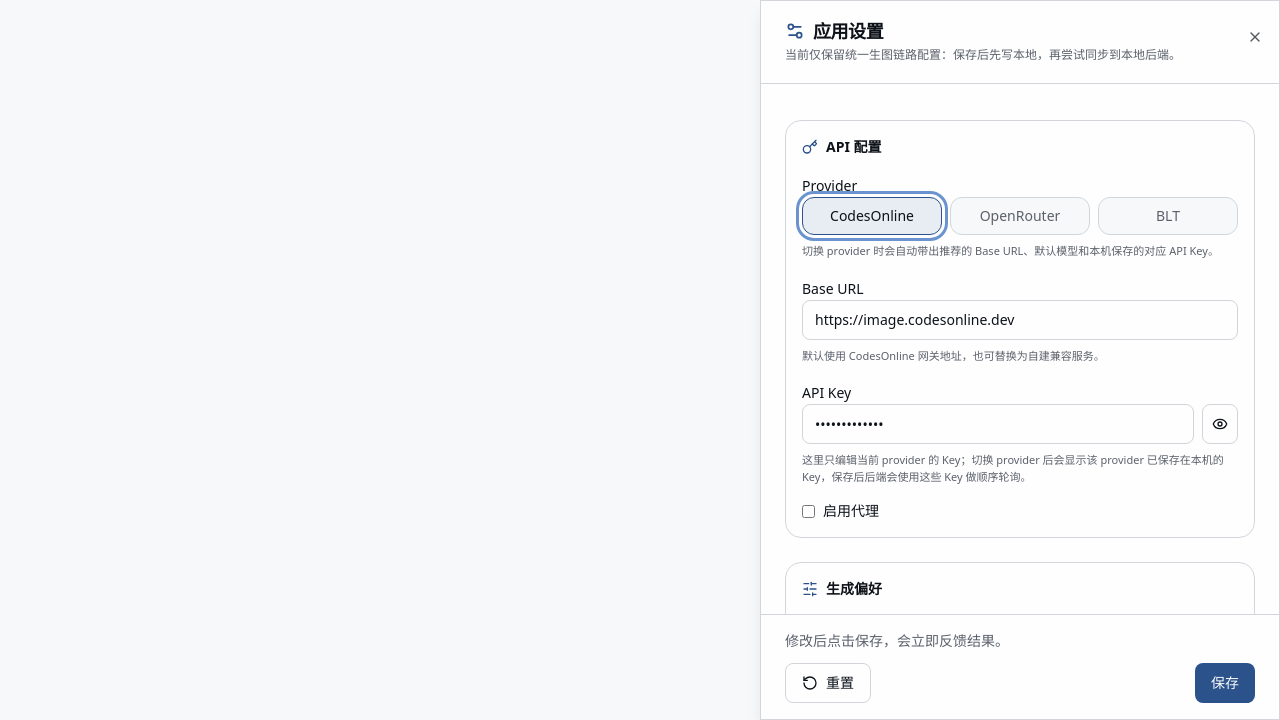
Test: settings drawer save chain regression › 后端返回业务错误时应保持失败态，不得降级成保存成功
Click the button "保存". click: (1225, 683)
box: [1195,663,1255,703]
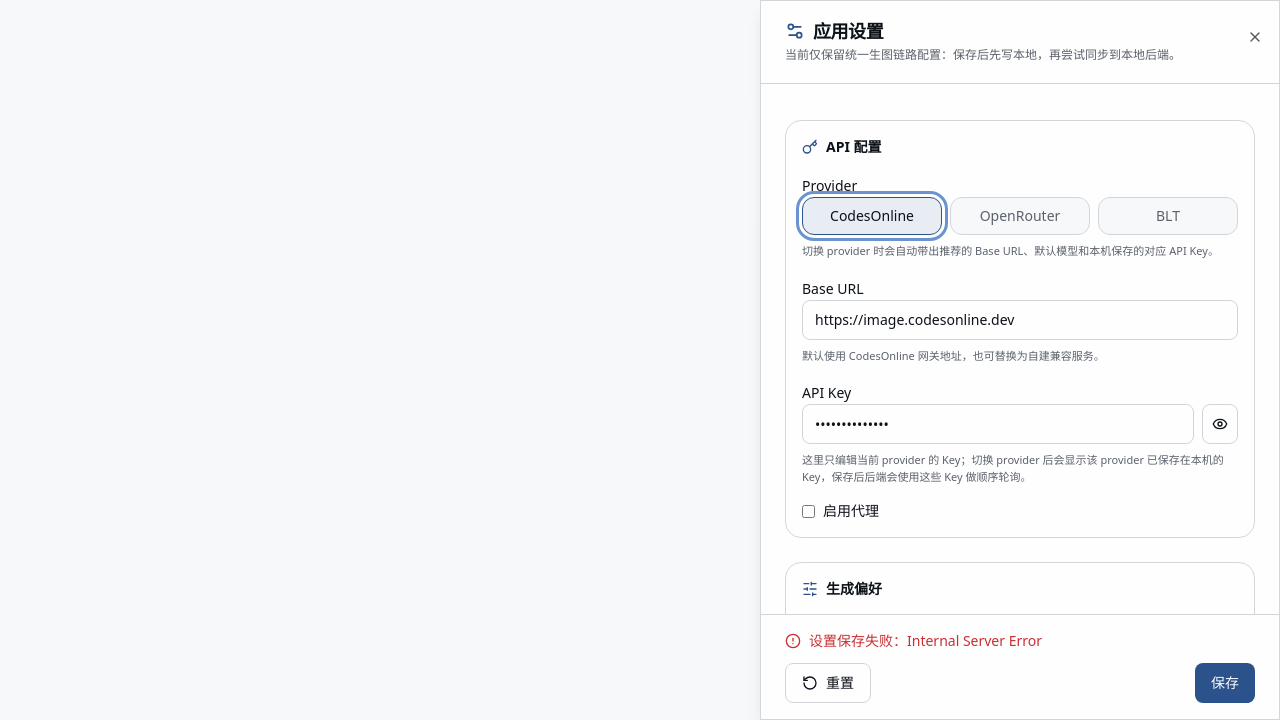
Now the text "设置保存失败：Internal Server Error" is shown, box [809,631,1042,651]
